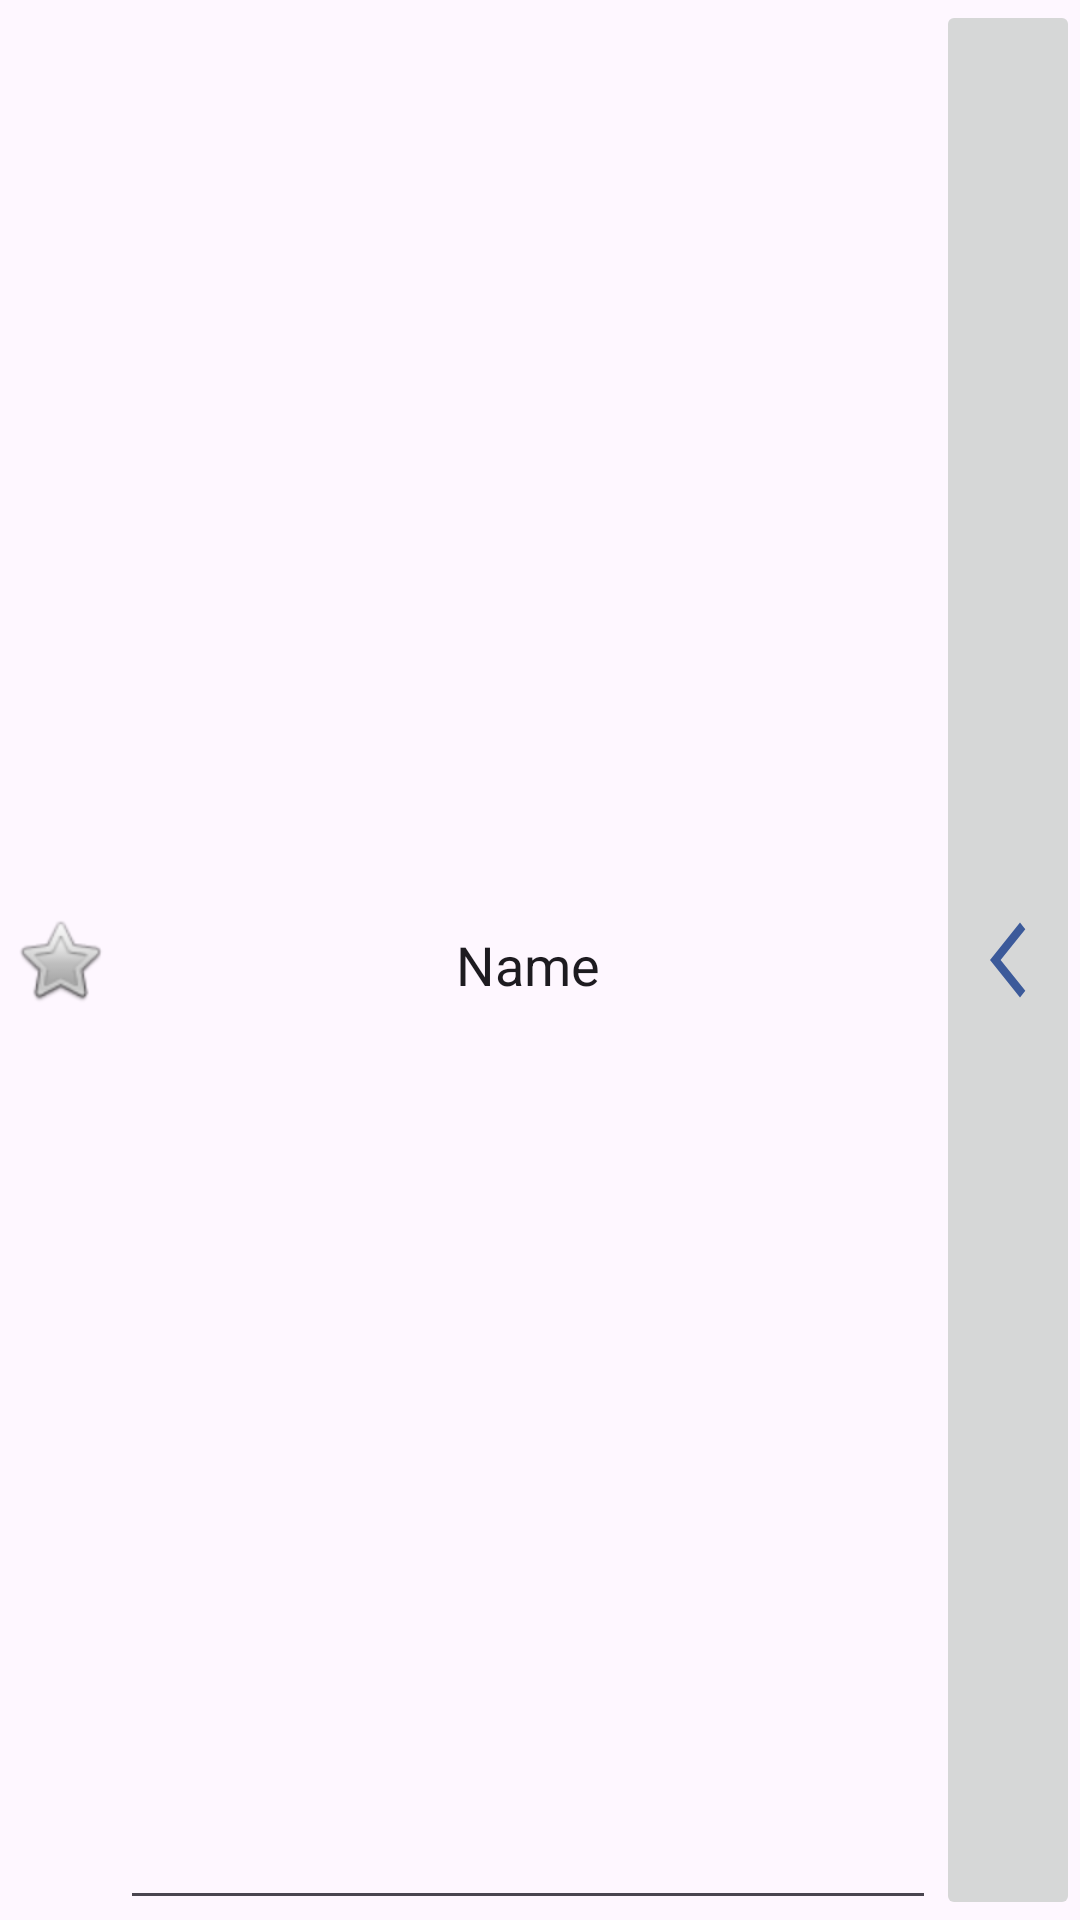

Named icons in this screenshot (1080*1920) and their bounding boxes, box=[x1, y1, x2, y2]:
star: box=[21, 922, 101, 1000]
